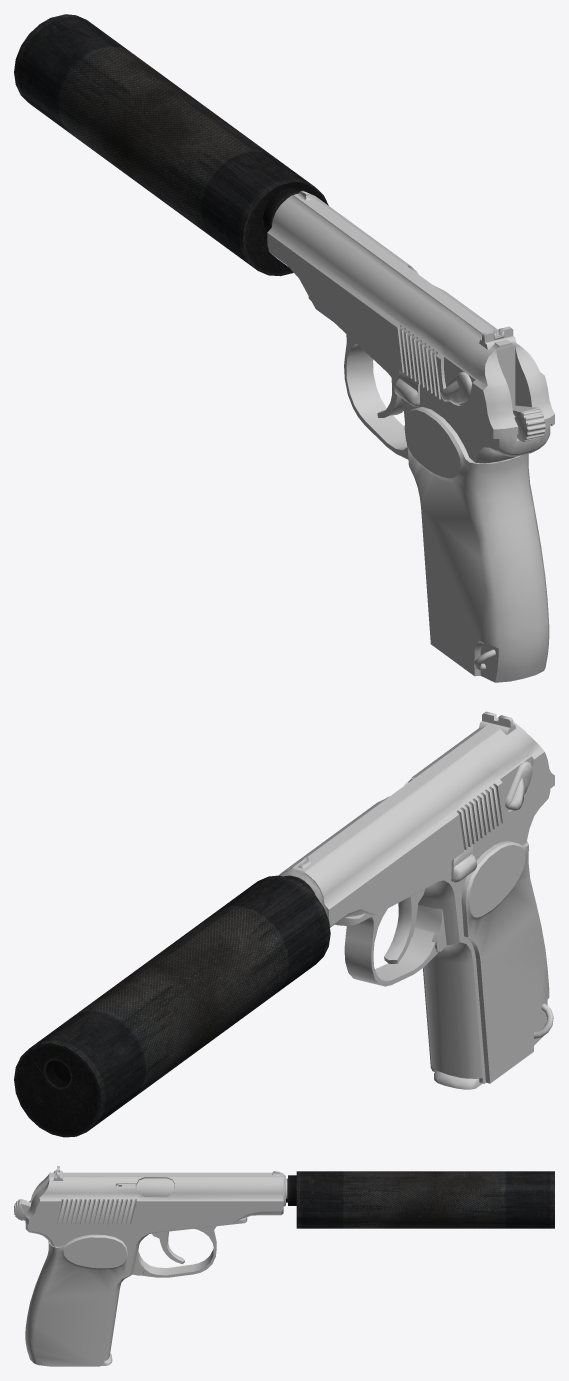
File: PM_World.fbx
3 views of the same model, one above another, from view 1: azimuth 30°, elevation 25°; view 2: azimuth 150°, elevation 25°; view 3: azimuth 270°, elevation 25° (orthographic). The views are drawn at different scales.
Parts seen in each view (by area): view 1: PM World, silencer_918; view 2: PM World, silencer_918; view 3: PM World, silencer_918.
Boxes of the visible parts, <box> form: PM World: <box>267,190,554,682</box>; silencer_918: <box>14,14,328,276</box>; PM World: <box>278,711,554,1089</box>; silencer_918: <box>14,875,330,1137</box>; PM World: <box>14,1166,287,1366</box>; silencer_918: <box>288,1171,554,1228</box>.
Size of the model in its own units: 5.25 by 19.28 by 49.51.
